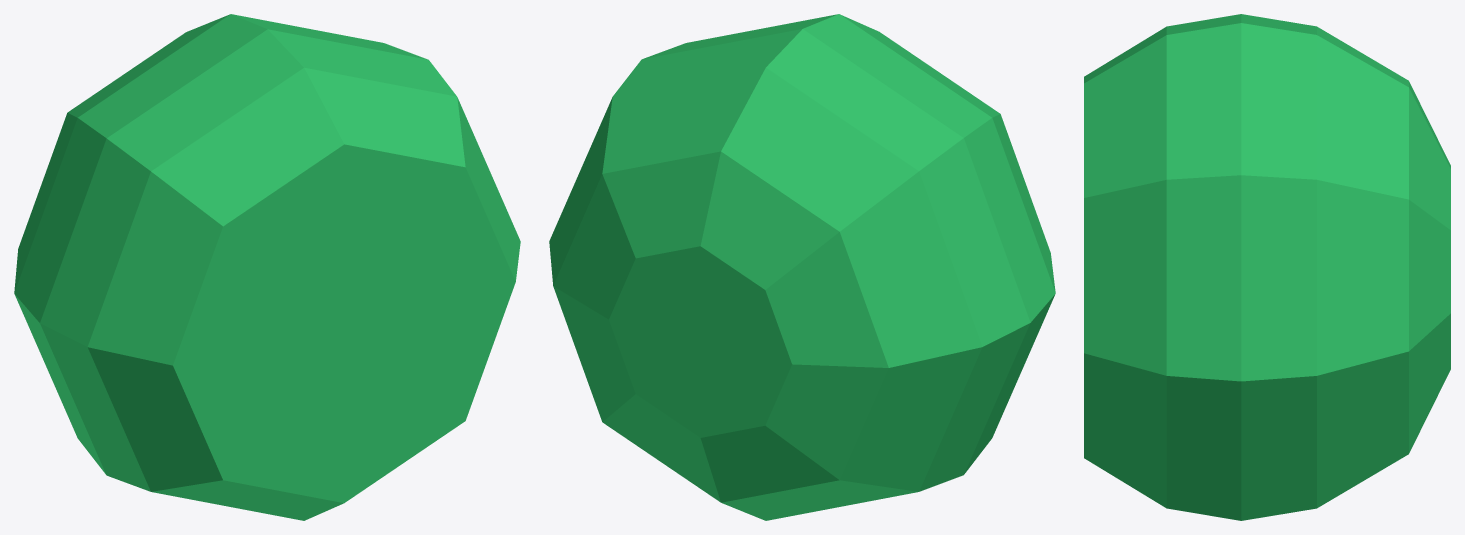
The model's file is SmallCactus_1.fbx.
3 views of the same model, side by side, from view 1: azimuth 30°, elevation 25°; view 2: azimuth 150°, elevation 25°; view 3: azimuth 270°, elevation 25° (orthographic). The views are drawn at different scales.
Parts seen in each view (by area): view 1: SmallCactus_1; view 2: SmallCactus_1; view 3: SmallCactus_1.
Part boxes in pixels (x1,y1,x2,y2): SmallCactus_1: (14,14,520,520); SmallCactus_1: (549,14,1055,520); SmallCactus_1: (1084,14,1450,520).
Size of the model in its own units: 138 by 138 by 94.13.
